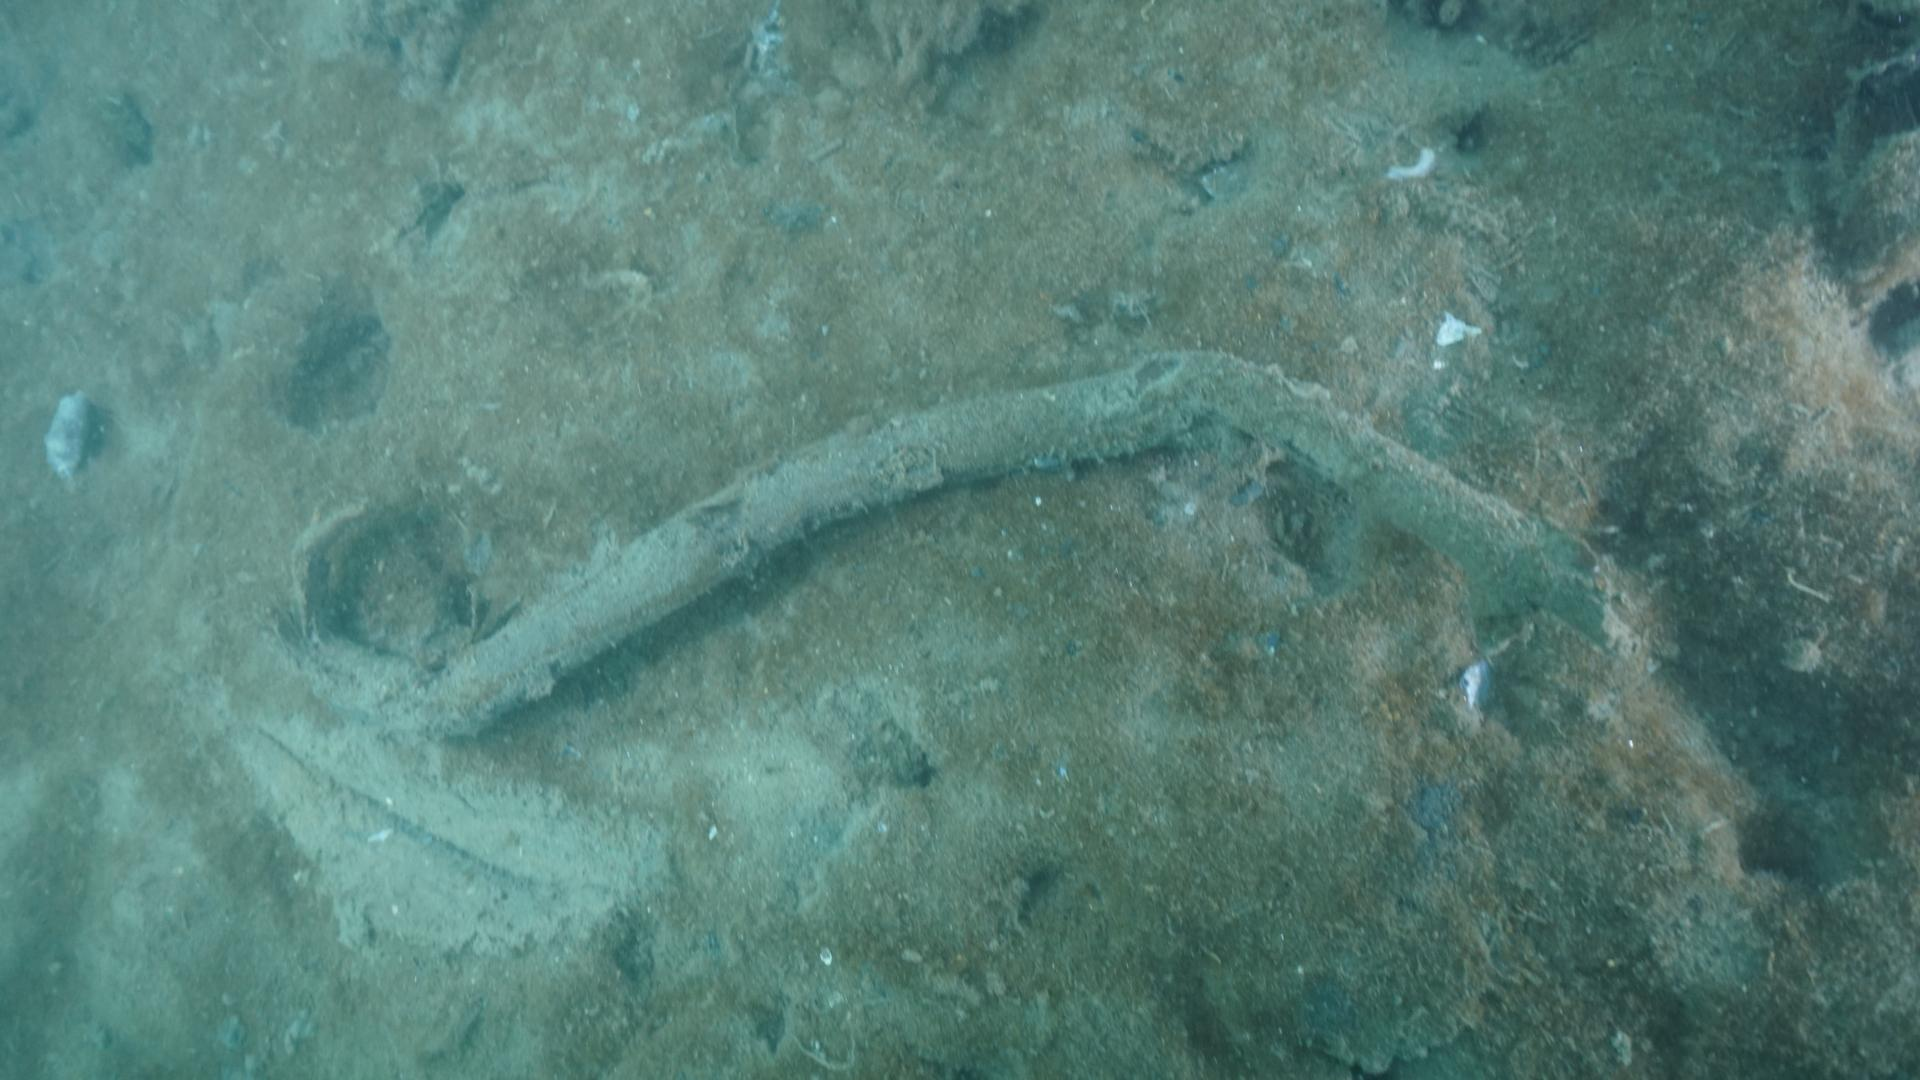wood: (425, 351, 1547, 733)
